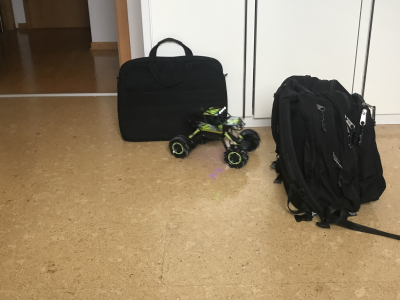remote control car: (168, 102, 263, 169)
